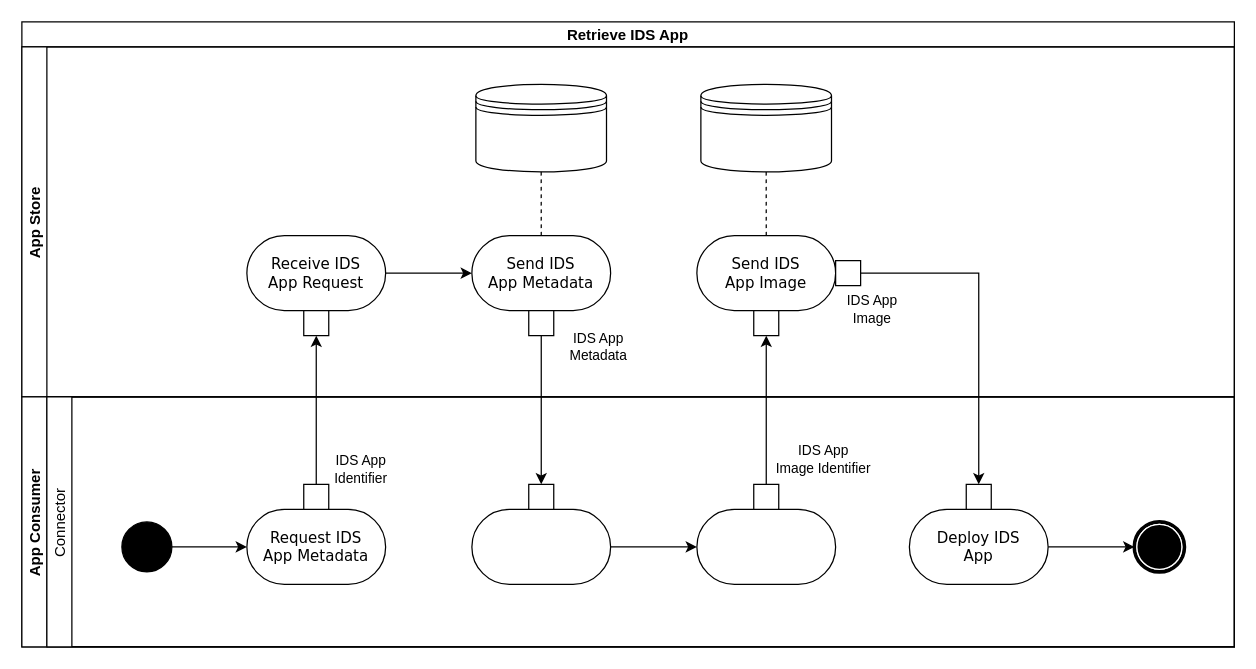
Image size: 1256x669. Some labels were removed from this diagram. The shapes that lost their labels are listed below. From the top down, each one's centre as x and y in pixels, then its label:
At (x=540, y=127): "App Store Database".
At (x=766, y=127): "App Store Image Registry".
At (x=541, y=546): "Receive IDS App Metadata".
At (x=766, y=546): "Pull IDS App Image".
